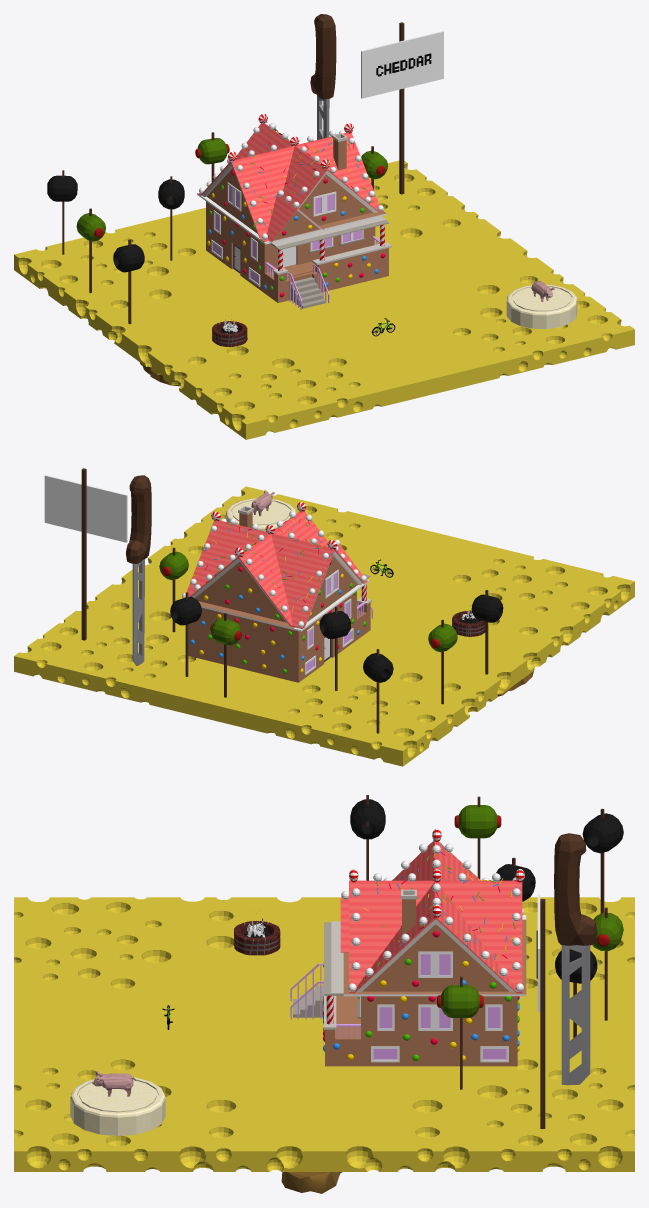
3 renders of one model, top to bottom at view 1: azimuth 30°, elevation 25°; view 2: azimuth 150°, elevation 25°; view 3: azimuth 270°, elevation 25°, orthographic. The views are drawn at different scales.
Parts seen in each view (by area): view 1: Cube.022, Cube.1203, Cube.023, Cylinder.016, Cube.024, Sphere.017, Sphere.016, Sphere.020, OBJRANDOM_CAMPFIRE, Sphere.018, Sphere.022, Sphere.019; view 2: Cube.022, Cube.1203, Cube.023, Cube.024, Cylinder.016, Sphere.017, Sphere.021, Sphere.016, Sphere.020, Sphere.022, Sphere.018, Sphere.019 (+1 smaller); view 3: Cube.022, Cube.1203, Cube.024, Cylinder.016, Cube.023, Sphere.016, Sphere.019, Sphere.018, OBJRANDOM_CAMPFIRE, Sphere.017, Sphere.022, UNDERGROUND_T_REX_BONES (+3 smaller).
Part boxes in pixels (x1=…): Cube.022: x1=14, y1=160, x2=634, y2=439; Cube.1203: x1=197, y1=114, x2=391, y2=309; Cube.023: x1=361, y1=22, x2=443, y2=194; Cylinder.016: x1=506, y1=284, x2=577, y2=328; Cube.024: x1=310, y1=14, x2=336, y2=139; Sphere.017: x1=113, y1=239, x2=144, y2=324; Sphere.016: x1=47, y1=170, x2=77, y2=254; Sphere.020: x1=158, y1=176, x2=184, y2=260; OBJRANDOM_CAMPFIRE: x1=212, y1=319, x2=247, y2=346; Sphere.018: x1=76, y1=208, x2=105, y2=293; Sphere.022: x1=195, y1=132, x2=229, y2=181; Sphere.019: x1=361, y1=146, x2=387, y2=189; Cube.022: x1=14, y1=486, x2=634, y2=766; Cube.1203: x1=182, y1=502, x2=372, y2=682; Cube.023: x1=44, y1=468, x2=127, y2=640; Cube.024: x1=126, y1=475, x2=151, y2=665; Cylinder.016: x1=226, y1=498, x2=295, y2=531; Sphere.017: x1=471, y1=590, x2=503, y2=674; Sphere.021: x1=170, y1=592, x2=201, y2=676; Sphere.016: x1=363, y1=649, x2=393, y2=733; Sphere.020: x1=319, y1=606, x2=350, y2=690; Sphere.022: x1=210, y1=613, x2=241, y2=697; Sphere.018: x1=428, y1=619, x2=457, y2=704; Sphere.019: x1=159, y1=547, x2=188, y2=632; Cube.022: x1=14, y1=897, x2=634, y2=1171; Cube.1203: x1=290, y1=828, x2=526, y2=1066; Cube.024: x1=554, y1=833, x2=597, y2=1085; Cylinder.016: x1=70, y1=1077, x2=165, y2=1135; Cube.023: x1=536, y1=895, x2=545, y2=1128; Sphere.016: x1=582, y1=808, x2=623, y2=913; Sphere.019: x1=437, y1=976, x2=483, y2=1089; Sphere.018: x1=454, y1=796, x2=501, y2=879; OBJRANDOM_CAMPFIRE: x1=234, y1=913, x2=280, y2=955; Sphere.017: x1=350, y1=795, x2=385, y2=880; Sphere.022: x1=592, y1=907, x2=623, y2=1020; UNDERGROUND_T_REX_BONES: x1=281, y1=1172, x2=342, y2=1193.
Bounding box in the file's own units: 3928 × 2120 × 4000.
Materials: 43 (4 with a texture image).
